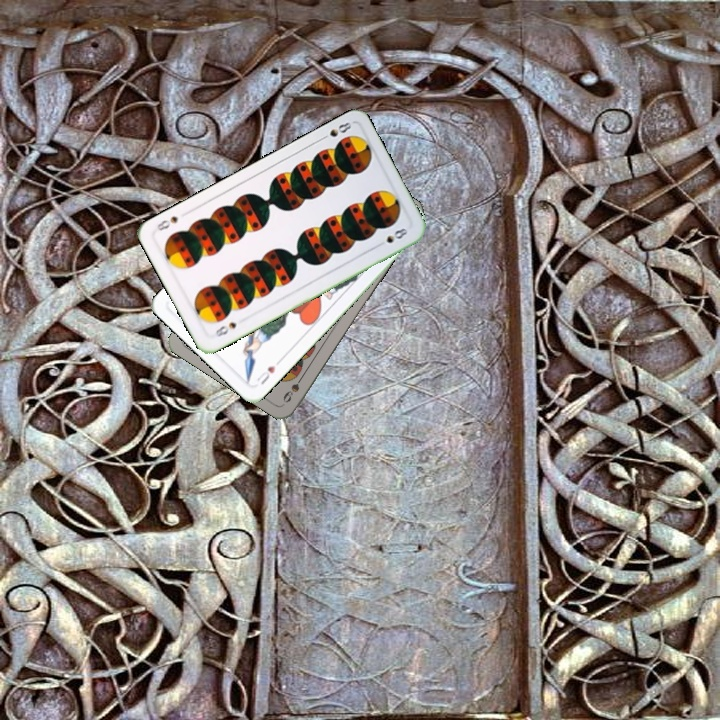HU: (252, 356, 283, 387)
S8: (316, 118, 354, 143), (211, 318, 239, 339)
S9: (279, 369, 307, 405)
